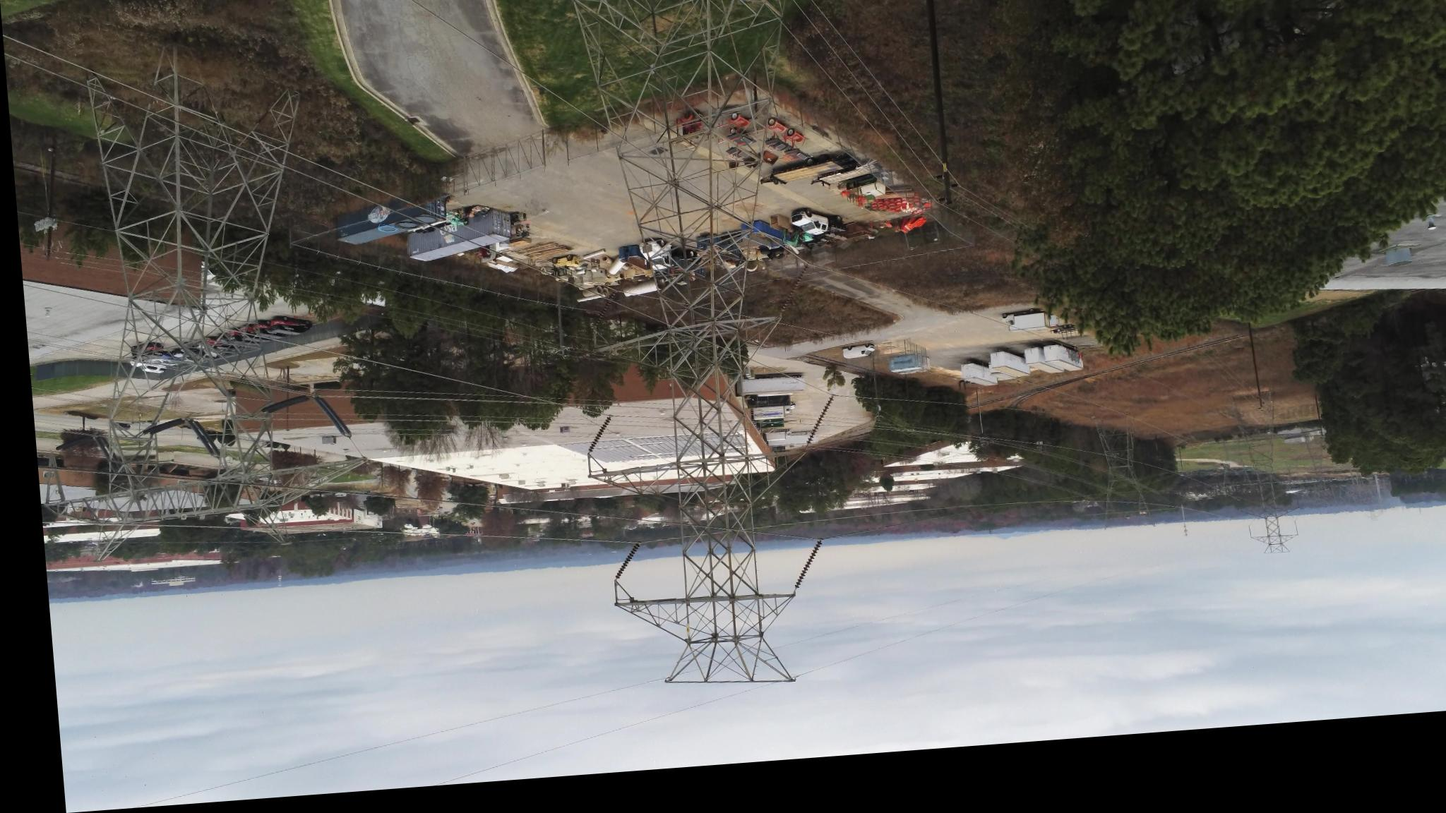tower: (82, 123, 1261, 701)
